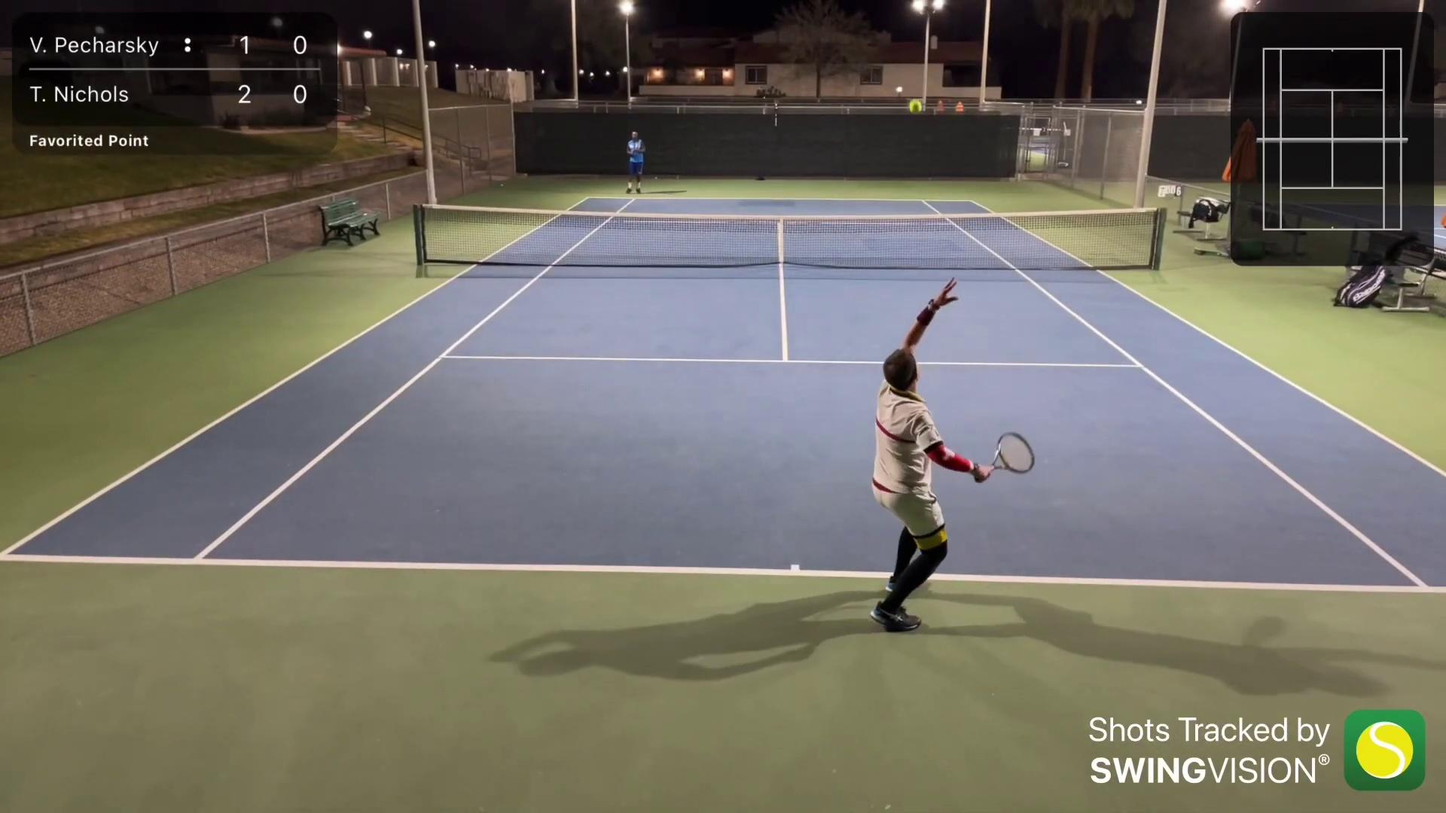ball: (906, 96, 924, 117)
